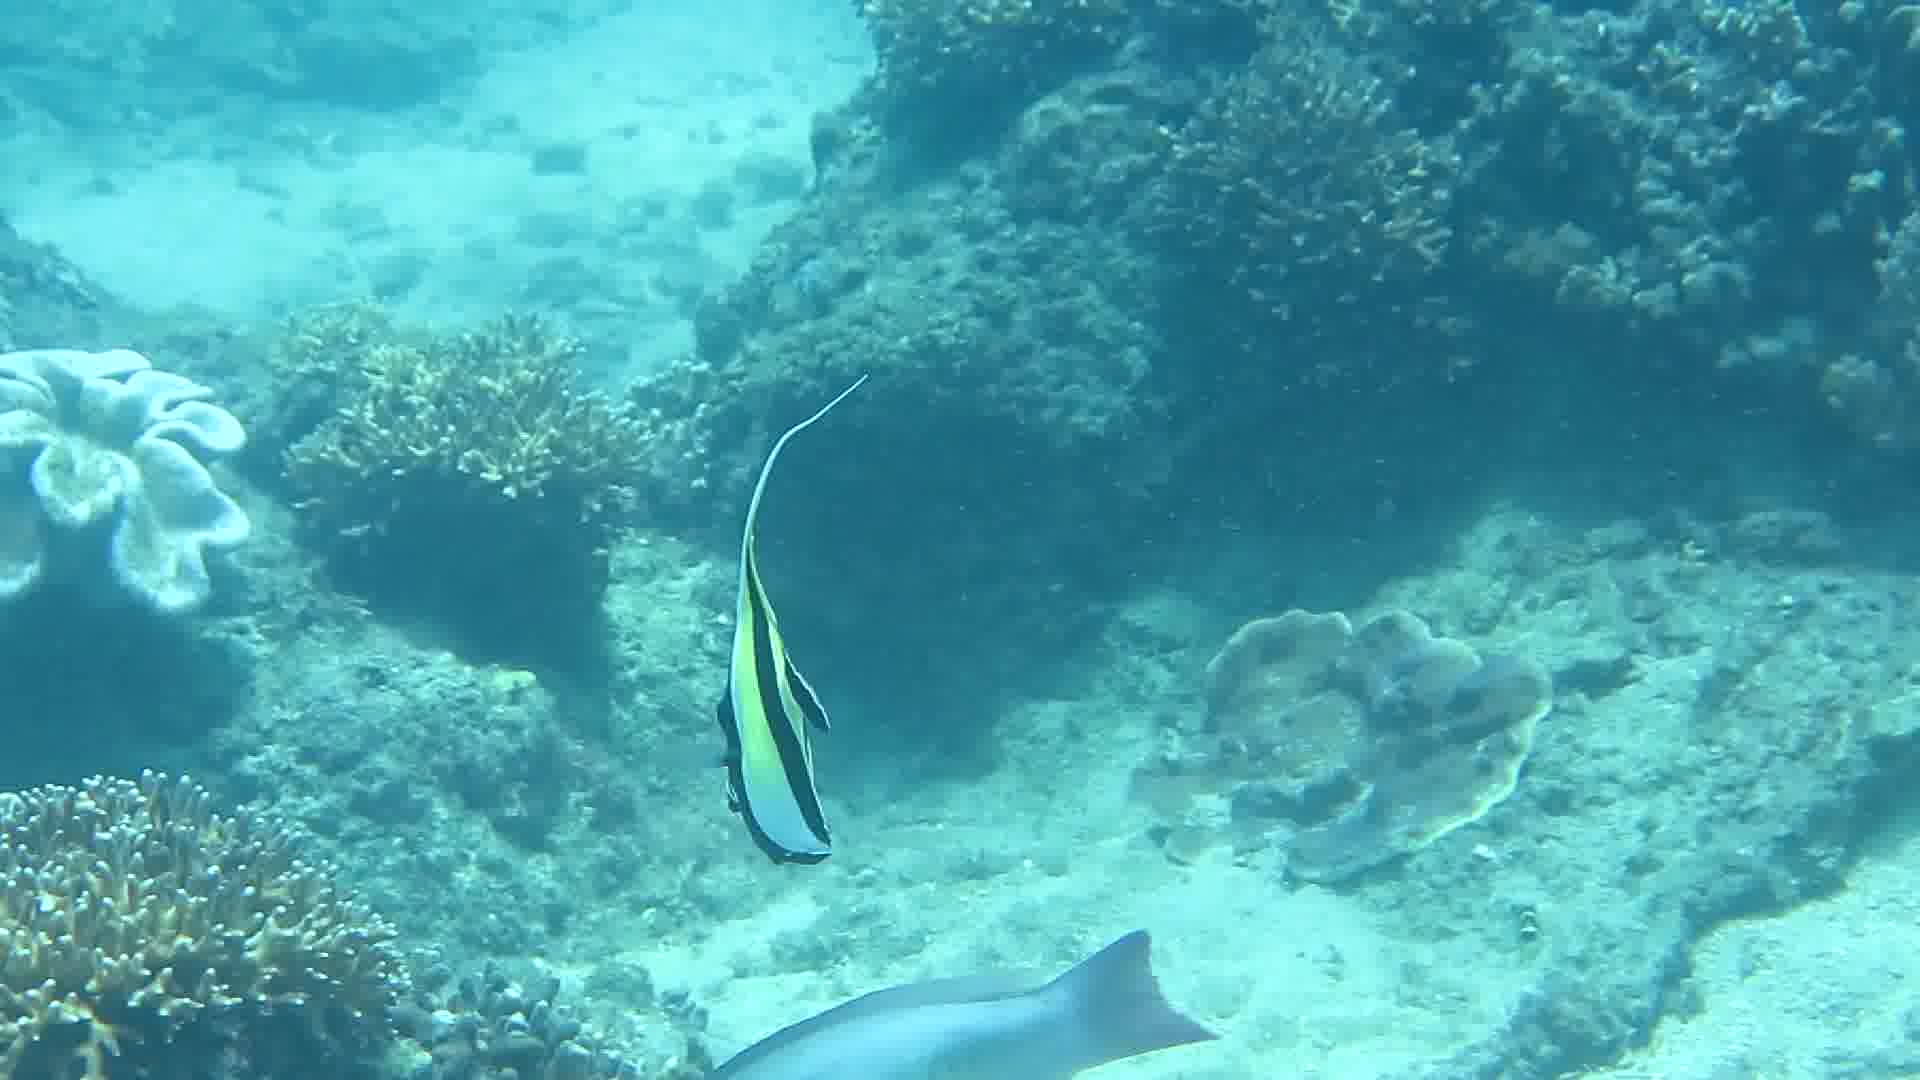Zanclus cornutus: (682, 549, 866, 913)
